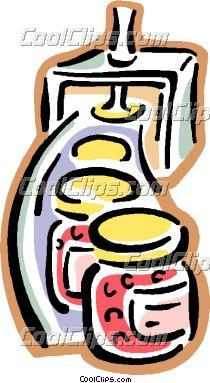bottle: (82, 209, 197, 362), (47, 170, 145, 316)
